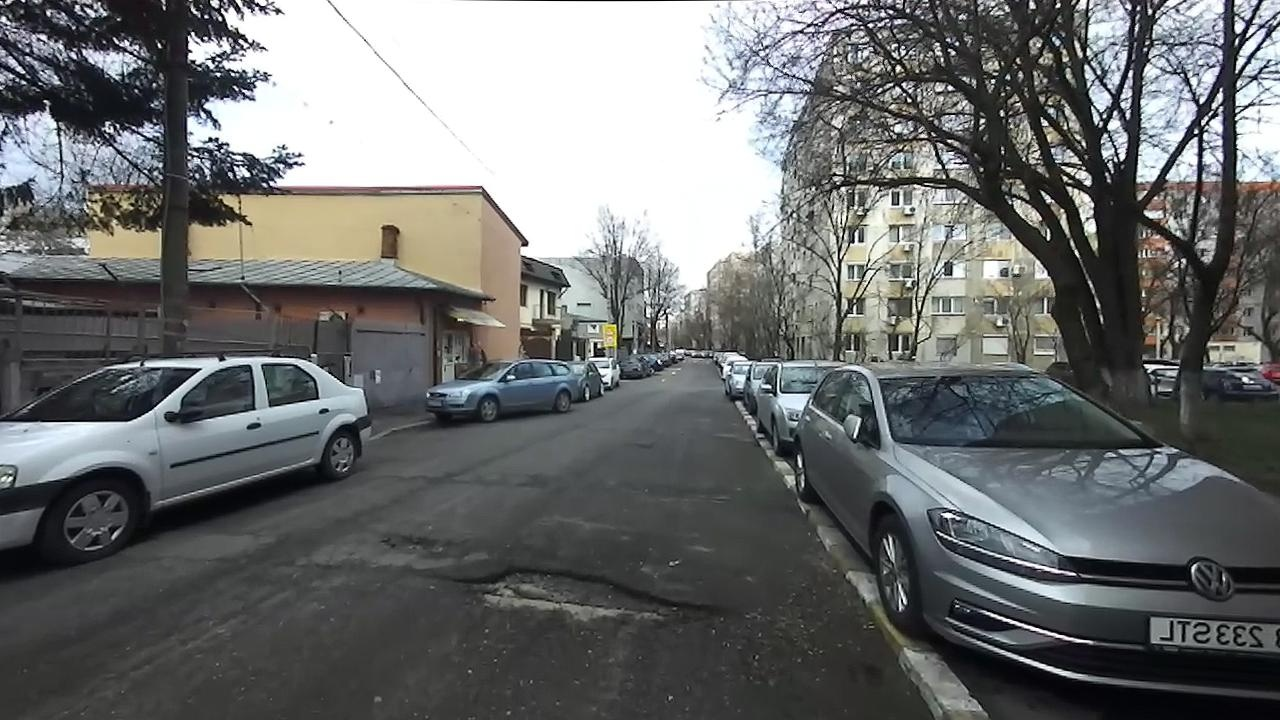pothole: (446, 563, 726, 640), (374, 528, 473, 560)
